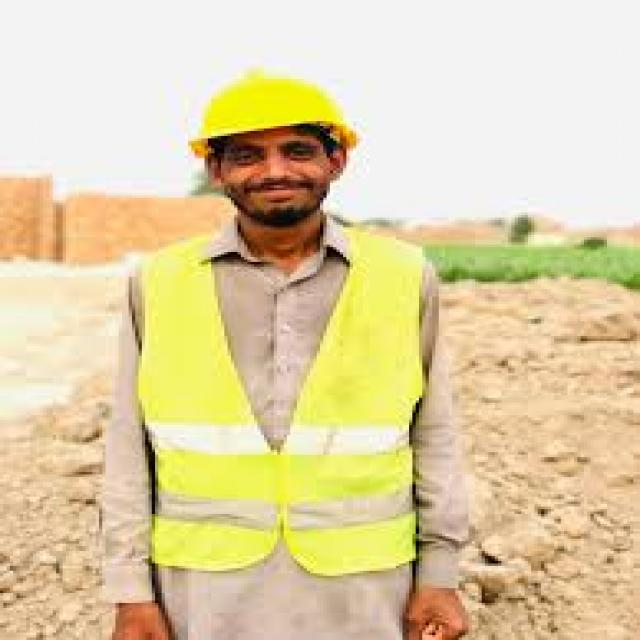Reflective-Jacket: (119, 230, 442, 583)
Safety-Helmet: (178, 62, 370, 153)
